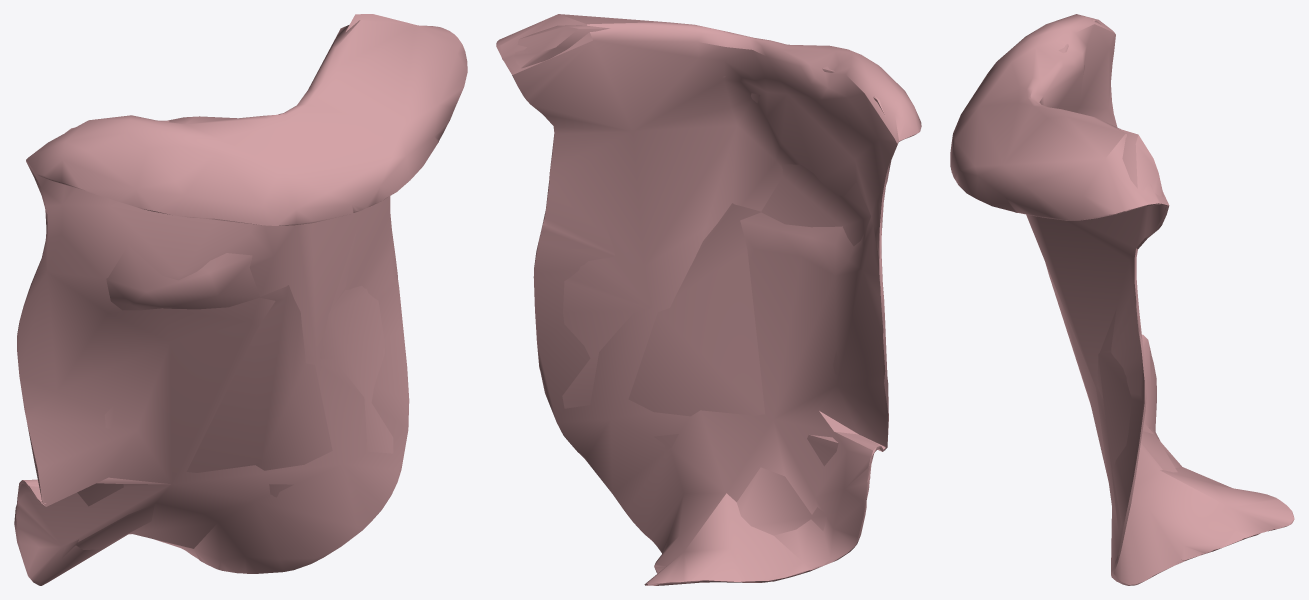
File: fma19757_fj4651.glb
3 views of the same model, side by side, from view 1: azimuth 30°, elevation 25°; view 2: azimuth 150°, elevation 25°; view 3: azimuth 270°, elevation 25° (orthographic). The views are drawn at different scales.
Visible parts, largest first — view 1: FMA19757_FJ4651; view 2: FMA19757_FJ4651; view 3: FMA19757_FJ4651.
Part boxes in pixels (x1,y1,x2,y2): FMA19757_FJ4651: (14, 14, 467, 585); FMA19757_FJ4651: (496, 14, 921, 585); FMA19757_FJ4651: (950, 14, 1294, 585).
Bounding box in the file's own units: 0.173 × 0.2028 × 0.1312.
